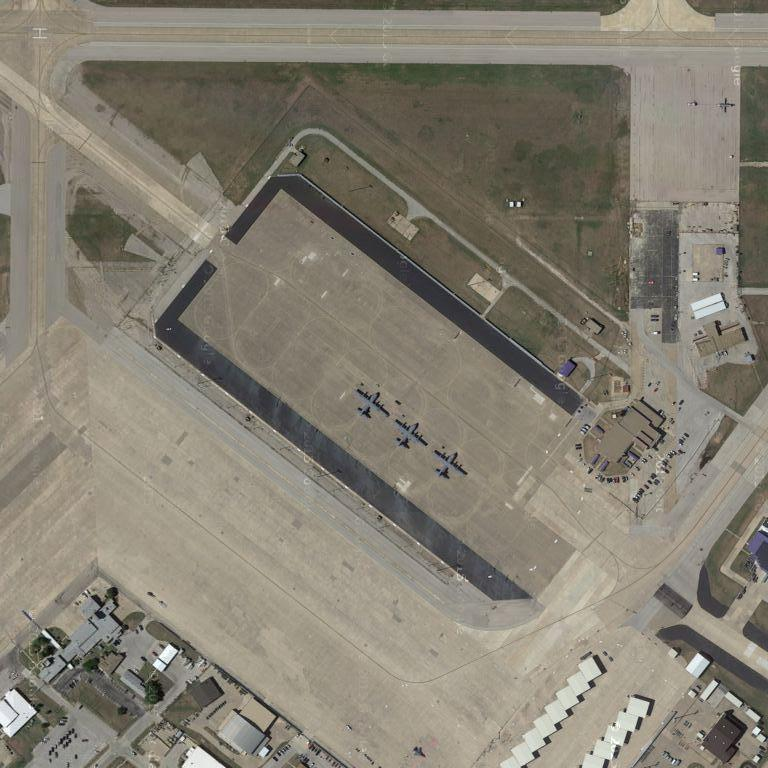C-130: (388, 412, 431, 457), (349, 384, 396, 425), (428, 444, 472, 484)
